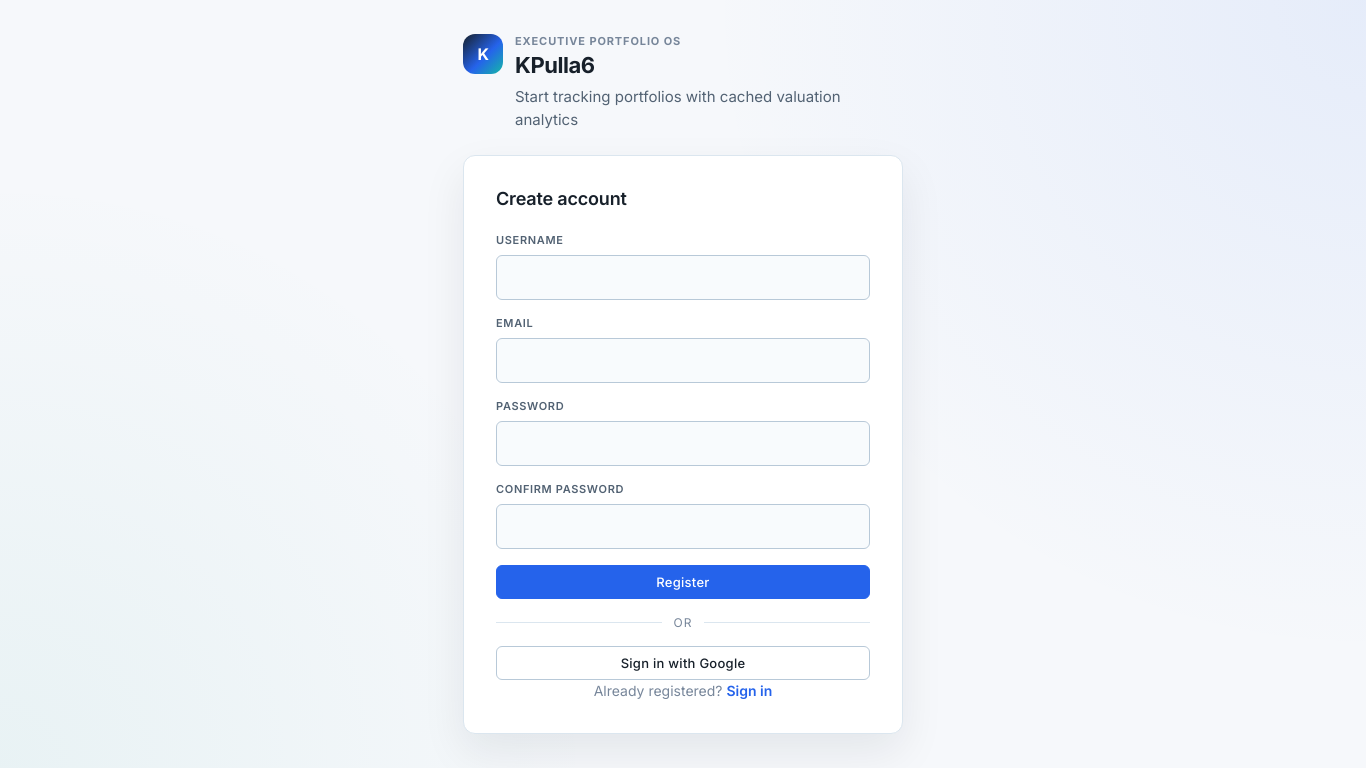
Test: Register page › shows backend validation error message
The width and height of the screenshot is (1366, 768).
Type "newuser" into the field labelled "Username".
click(683, 278); type("newuser")  # box [496,255,870,300]
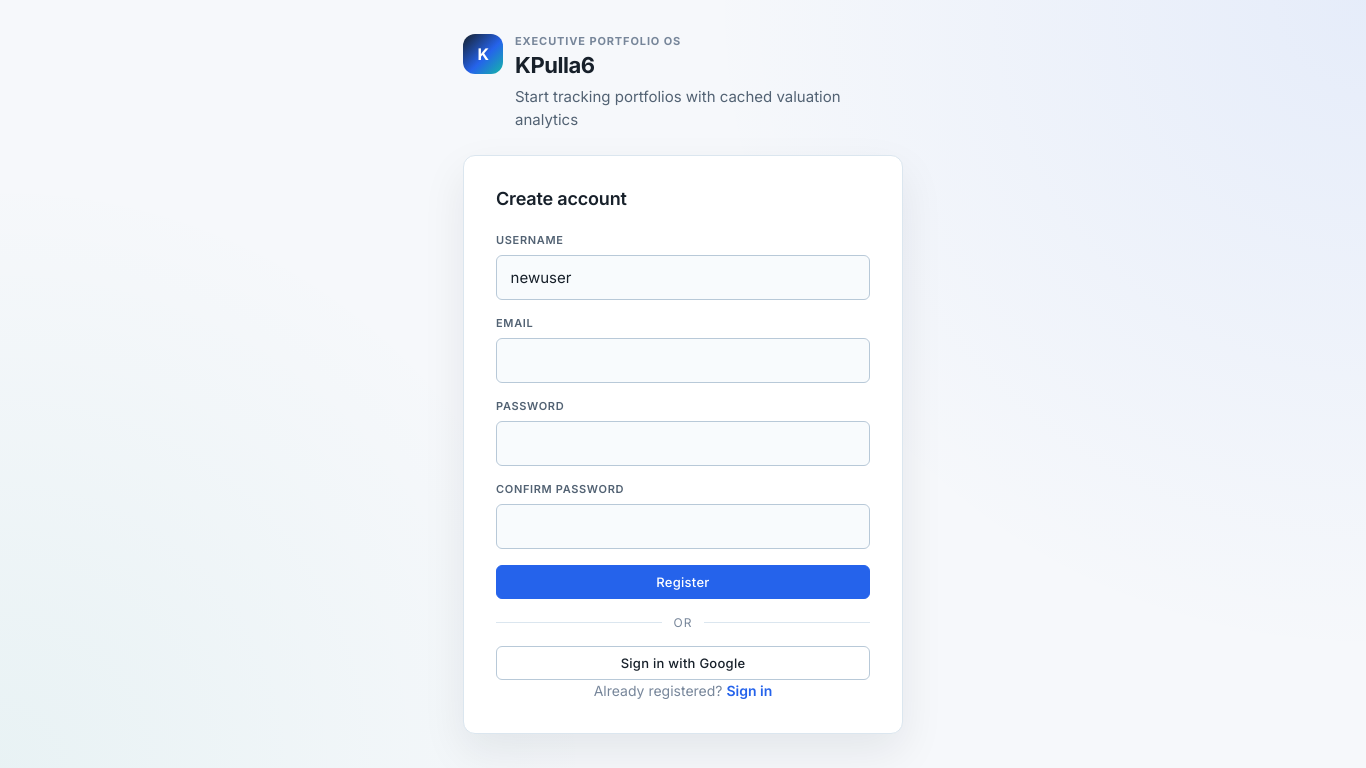
Type "new@example.com" into the field labelled "Email".
click(683, 361); type("new@example.com")  # box [496,338,870,383]
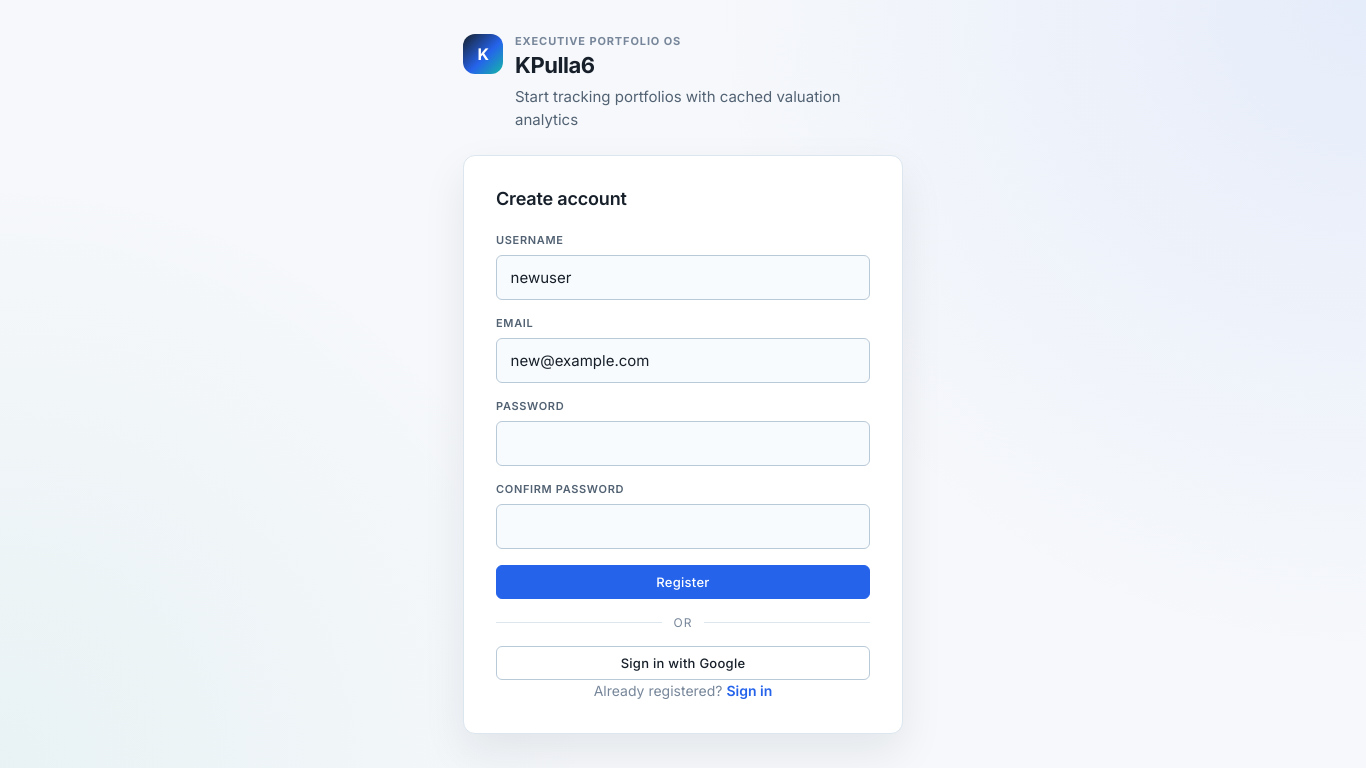
Type "StrongPass123!" into the password field labelled "Password".
click(683, 444); type("StrongPass123!")  # box [496,421,870,466]
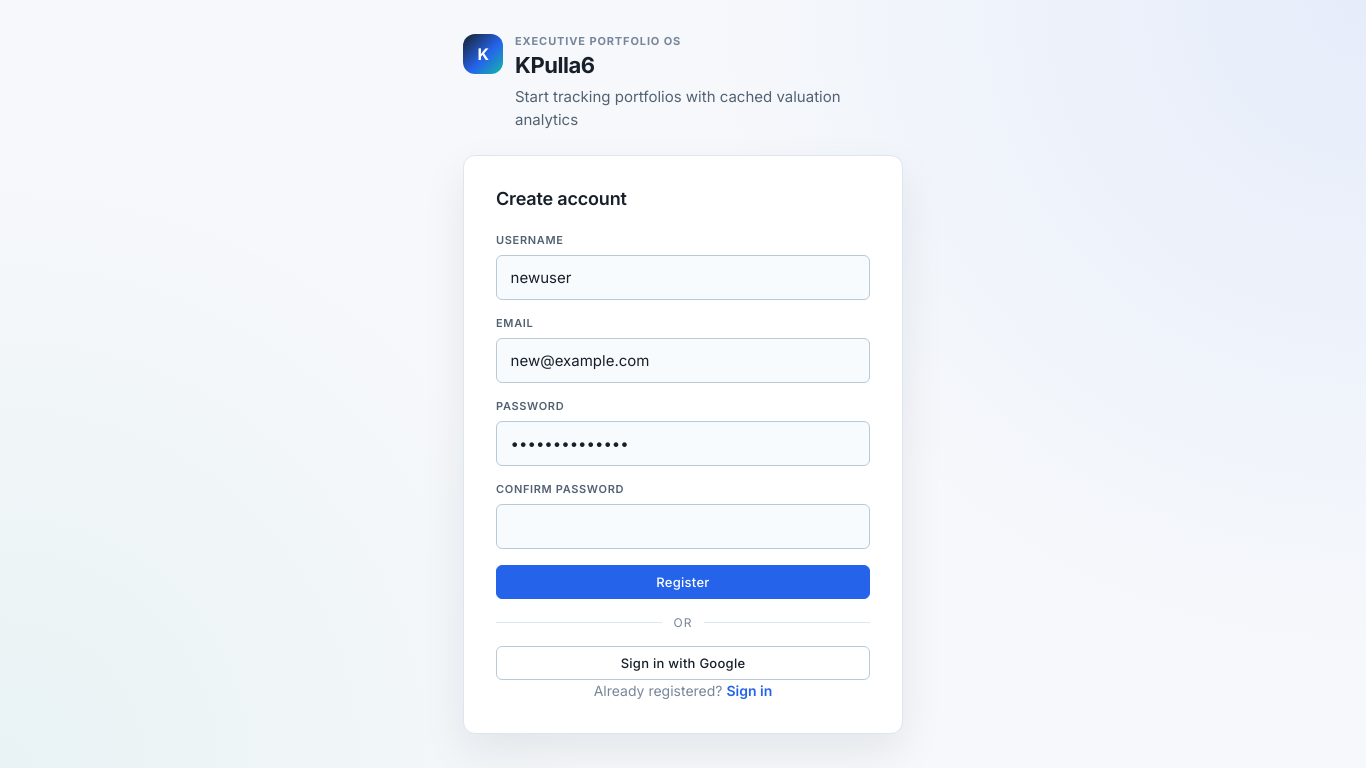
Type "StrongPass123!" into the password field labelled "Confirm password".
click(683, 527); type("StrongPass123!")  # box [496,504,870,549]
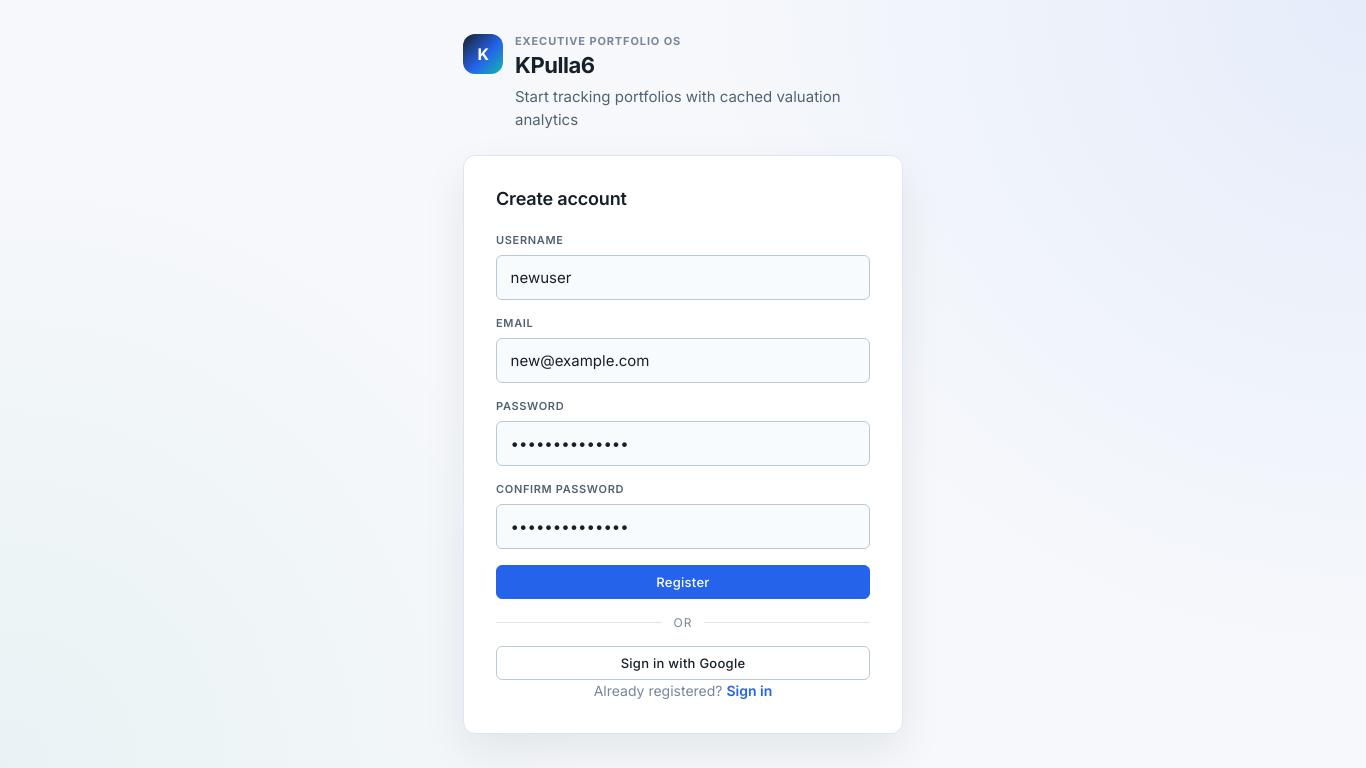
Replace the text in the field labelled "Username" with "taken" at (683, 278), box [496,255,870,300]
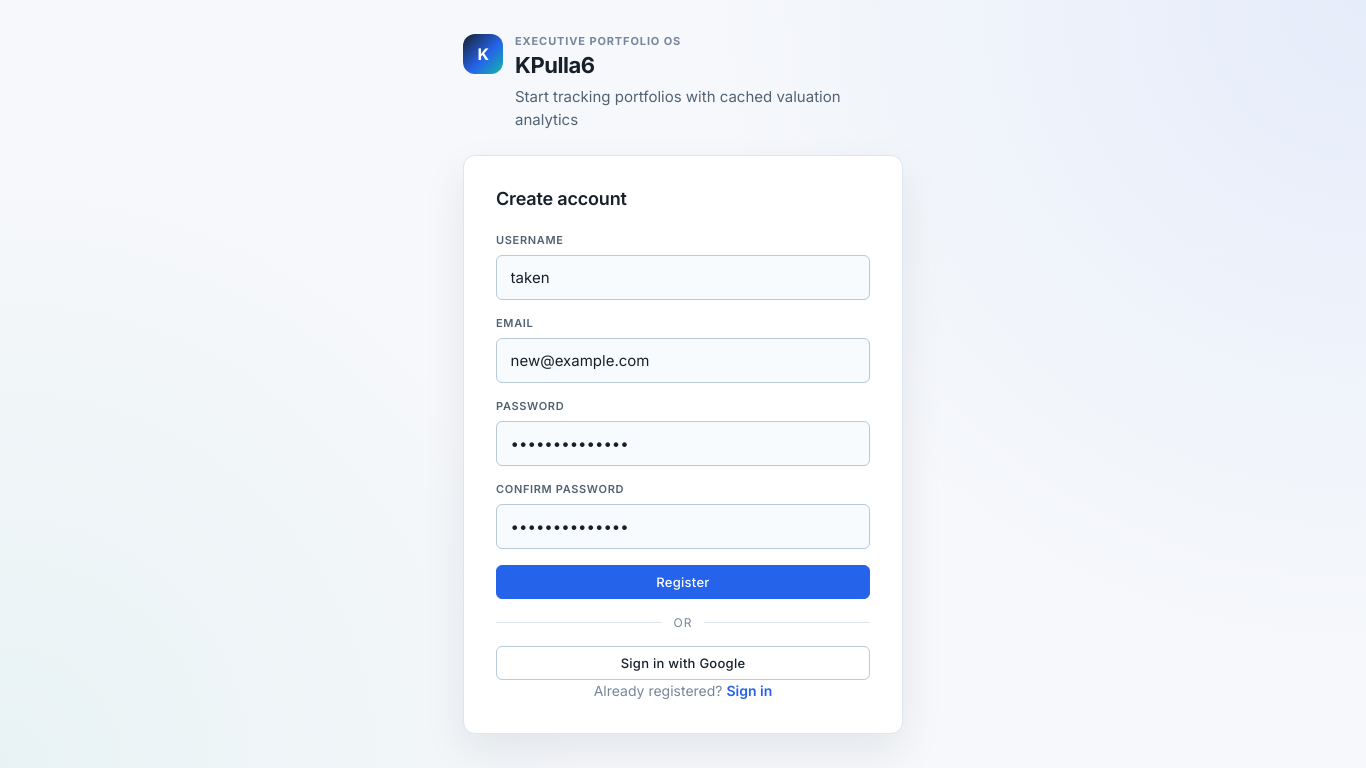
Click the button "Register".
click(683, 582)  # box [496,565,870,599]
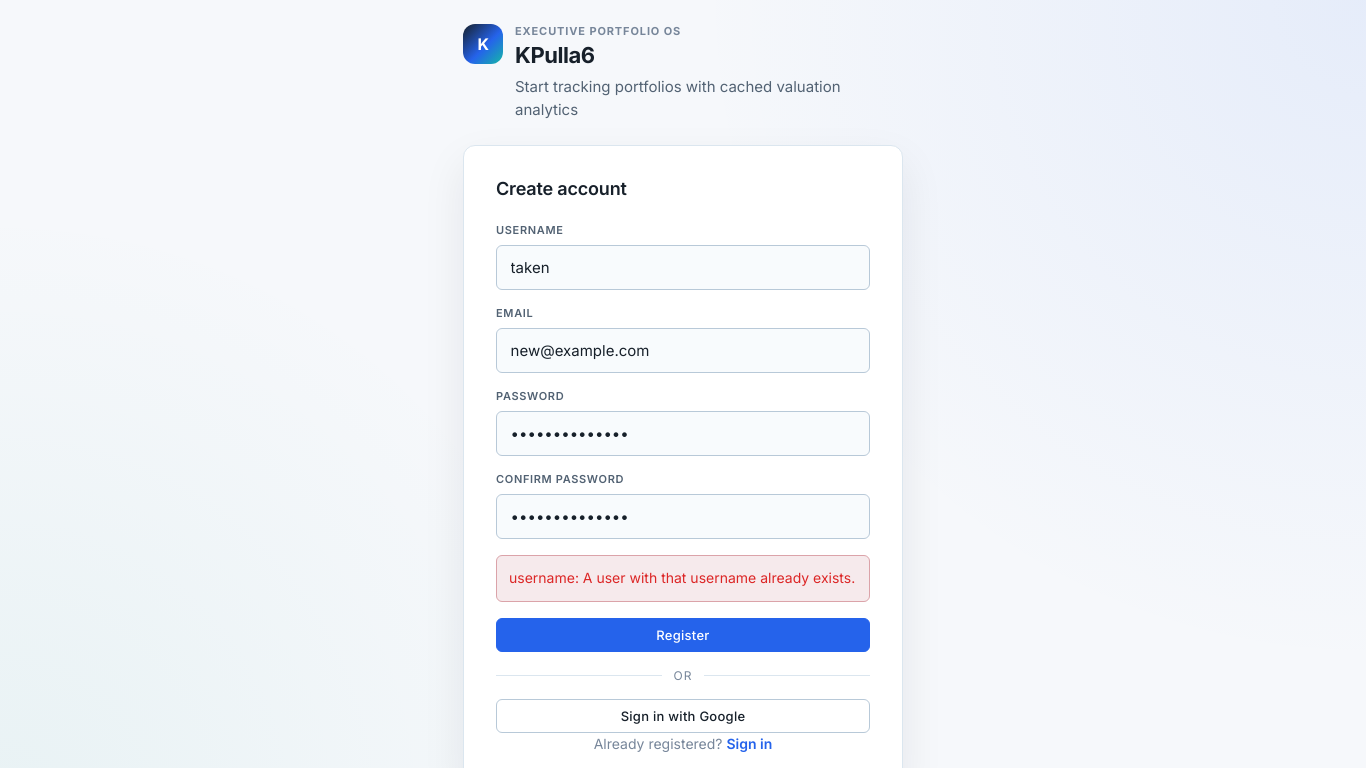
Result: the text "username: A user with that username already exists." is shown at [496,555,870,602]
